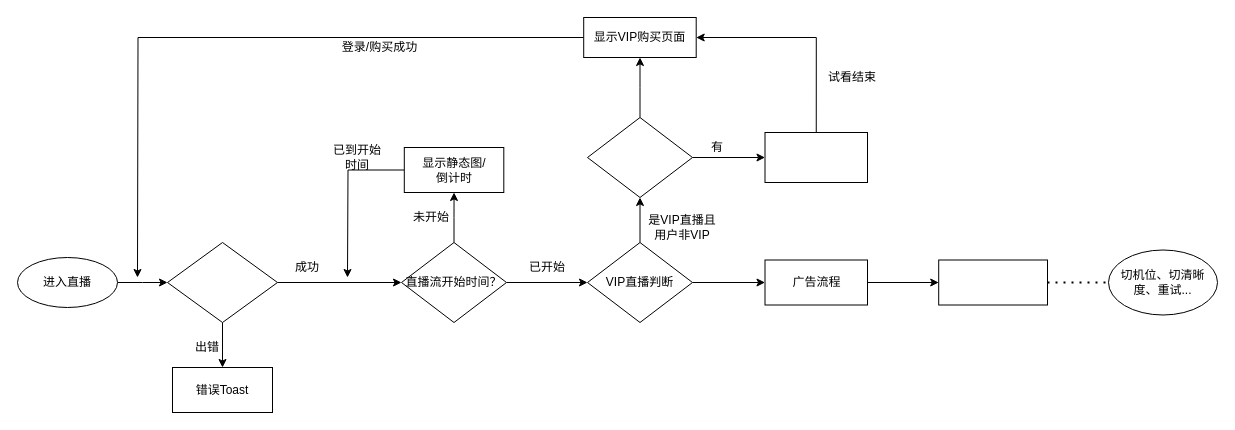
The diagram is 1235 pixels wide and 430 high, and some of its shapes have lost their labels. The centre of each missing label's shape, as x and y in pixels:
getSource: point (222, 282)
是否有试看: point (639, 157)
直播流播放: point (993, 282)
直播试看: point (816, 157)
